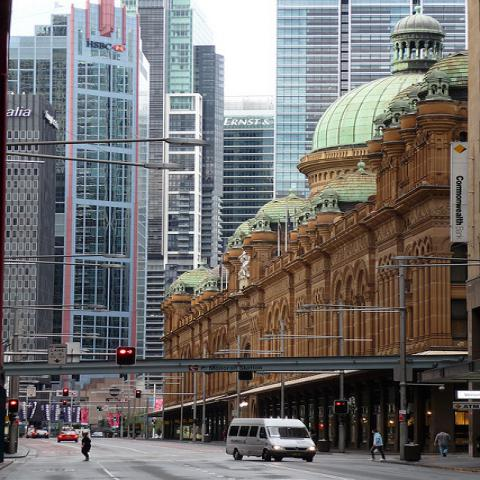car: (56, 431, 79, 443), (32, 430, 50, 438), (91, 432, 106, 437)
truck: (226, 417, 317, 462)
